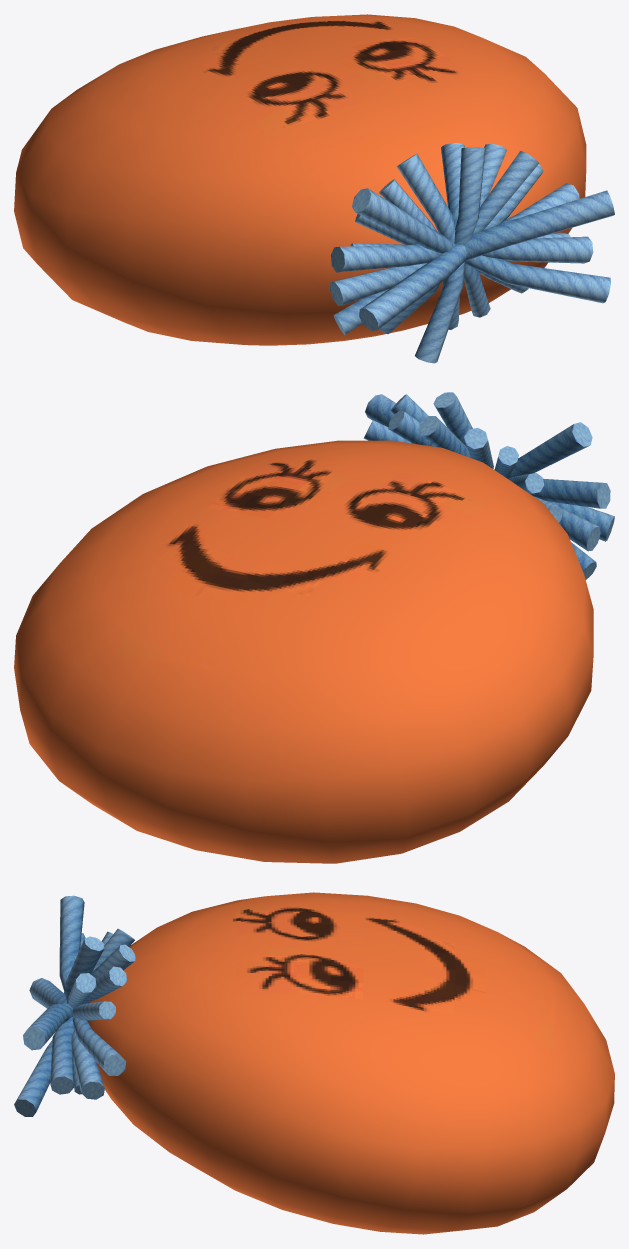
Rendered from ref_gtsmiledoll.glb.
3 views of the same model, one above another, from view 1: azimuth 30°, elevation 25°; view 2: azimuth 150°, elevation 25°; view 3: azimuth 270°, elevation 25° (orthographic). The views are drawn at different scales.
Parts seen in each view (by area): view 1: ref_gtsmiledoll; view 2: ref_gtsmiledoll; view 3: ref_gtsmiledoll.
Part boxes in pixels (x1,y1,x2,y2): ref_gtsmiledoll: [14, 14, 614, 363]; ref_gtsmiledoll: [14, 392, 614, 863]; ref_gtsmiledoll: [14, 892, 614, 1234].
Bounding box in the file's own units: 0.8592 × 0.4641 × 1.
1 material, 1 textured.
